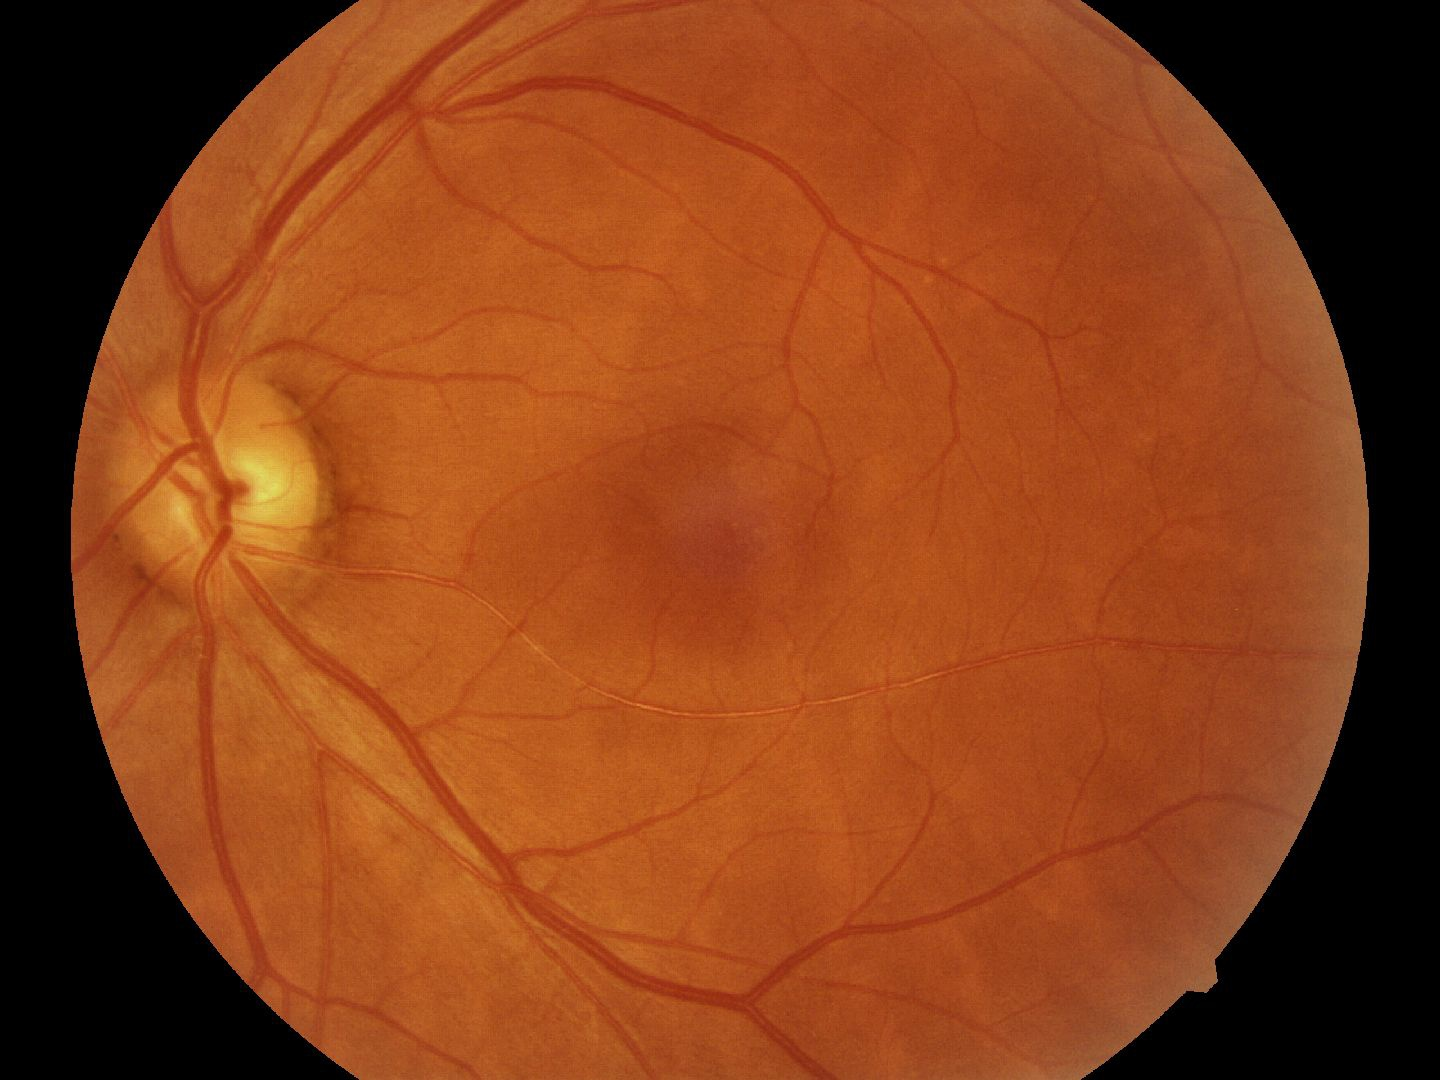Optic-Disc: (110, 362, 336, 607)
Venules: (369, 693, 622, 976), (255, 47, 432, 293)
